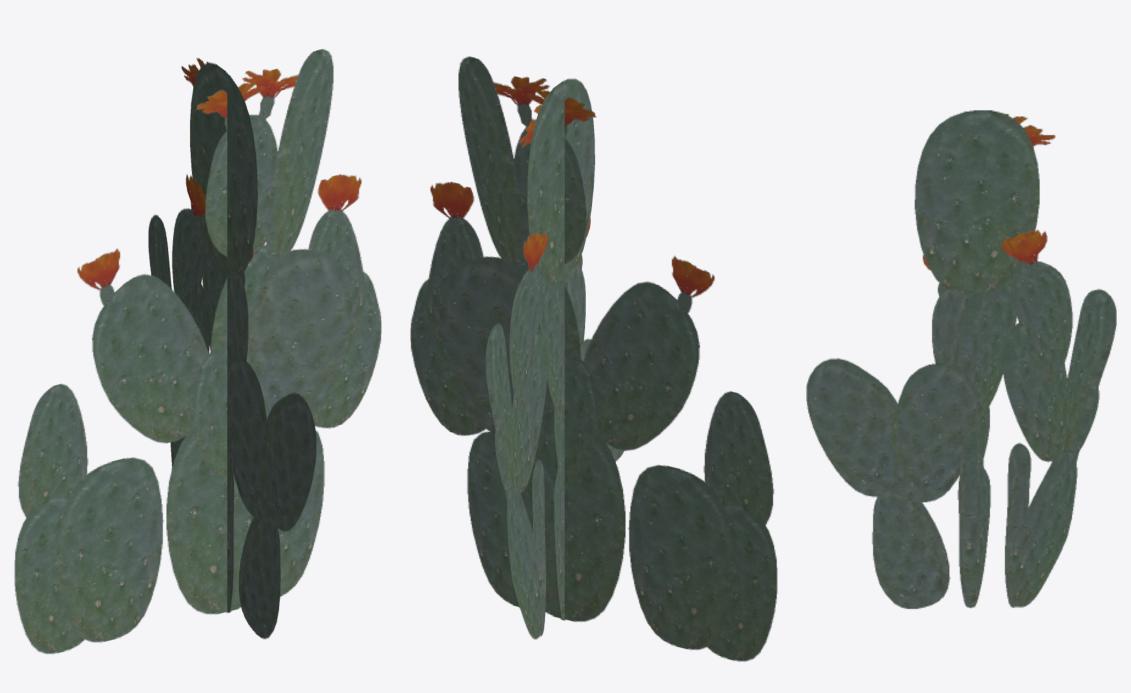
File: OpuntiaAciculata.glb
The picture shows the model from 3 angles, left to right: view 1: azimuth 30°, elevation 25°; view 2: azimuth 150°, elevation 25°; view 3: azimuth 270°, elevation 25°; orthographic projection. The views are drawn at different scales.
Visible parts, largest first — view 1: mesh__mat_billboard_4; view 2: mesh__mat_billboard_4; view 3: mesh__mat_billboard_4.
Part boxes in pixels (left/top/right/bottom): mesh__mat_billboard_4: left=14, top=49, right=381, bottom=654; mesh__mat_billboard_4: left=410, top=56, right=777, bottom=661; mesh__mat_billboard_4: left=806, top=110, right=1116, bottom=608.
Size of the model in its own units: 0.7137 by 1 by 0.5665.
Materials: 1 (1 with a texture image).
